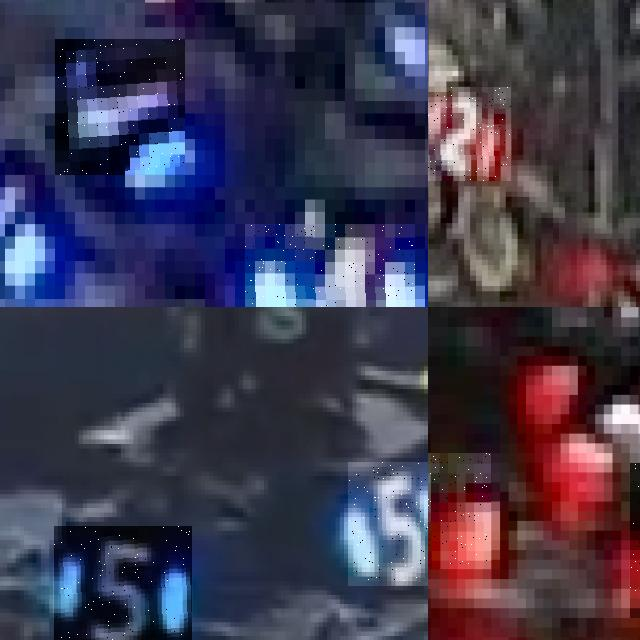B4: (55, 39, 185, 175), (245, 224, 415, 307)
B5: (53, 526, 192, 640), (348, 462, 428, 585)
R1: (534, 366, 640, 492), (428, 452, 491, 569)
R2: (428, 86, 511, 181)
